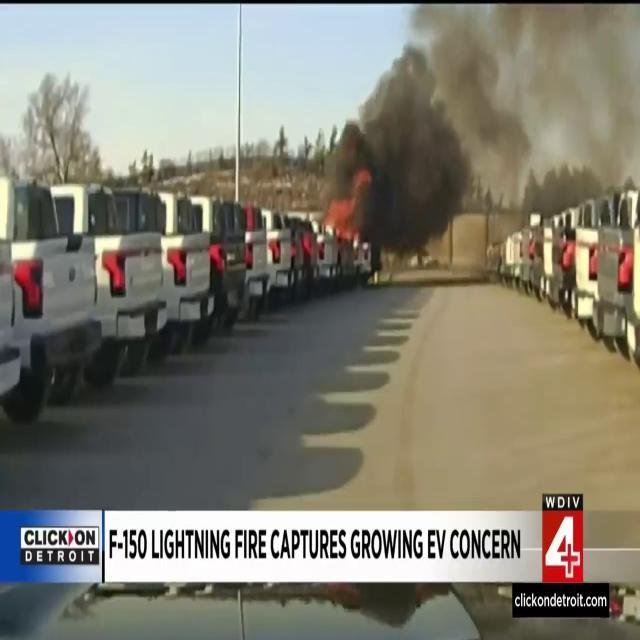Smoke: (348, 3, 540, 254), (532, 2, 640, 192)
